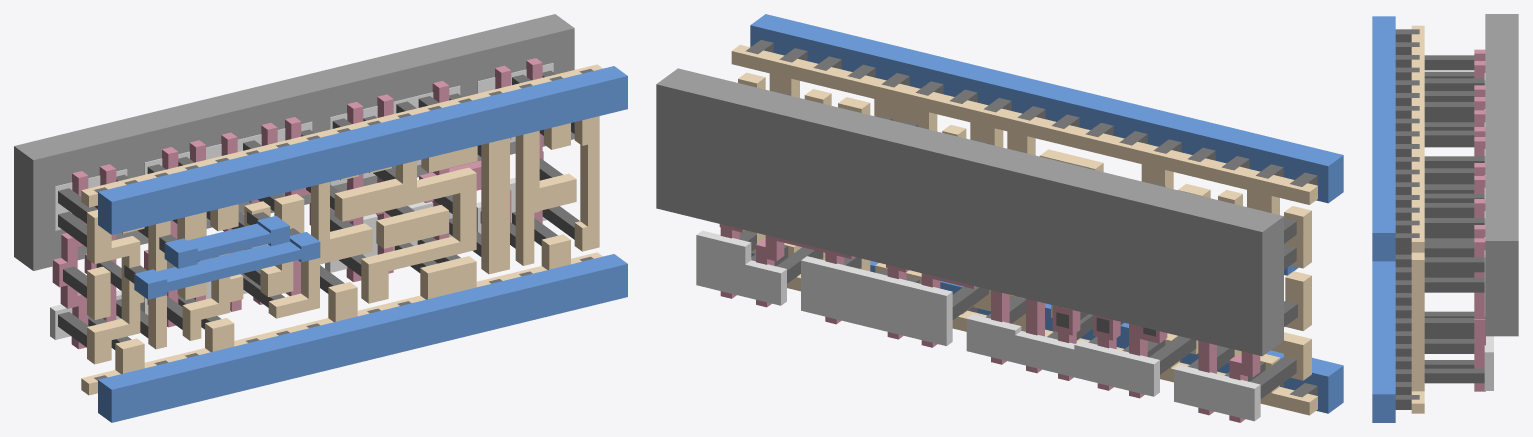
The model's file is sky130_fd_sc_hd__dlrbn_1.gds.gltf.
3 views of the same model, side by side, from view 1: azimuth 30°, elevation 25°; view 2: azimuth 150°, elevation 25°; view 3: azimuth 270°, elevation 25° (orthographic). The views are drawn at different scales.
Visible parts, largest first — view 1: sky130_fd_sc_hd__dlrbn_1_met1, sky130_fd_sc_hd__dlrbn_1_li1, sky130_fd_sc_hd__dlrbn_1_nwell, sky130_fd_sc_hd__dlrbn_1_licon, sky130_fd_sc_hd__dlrbn_1_poly, sky130_fd_sc_hd__dlrbn_1_diff, sky130_fd_sc_hd__dlrbn_1_mcon; view 2: sky130_fd_sc_hd__dlrbn_1_nwell, sky130_fd_sc_hd__dlrbn_1_li1, sky130_fd_sc_hd__dlrbn_1_diff, sky130_fd_sc_hd__dlrbn_1_met1, sky130_fd_sc_hd__dlrbn_1_poly, sky130_fd_sc_hd__dlrbn_1_licon, sky130_fd_sc_hd__dlrbn_1_mcon; view 3: sky130_fd_sc_hd__dlrbn_1_licon, sky130_fd_sc_hd__dlrbn_1_nwell, sky130_fd_sc_hd__dlrbn_1_met1, sky130_fd_sc_hd__dlrbn_1_mcon, sky130_fd_sc_hd__dlrbn_1_li1, sky130_fd_sc_hd__dlrbn_1_poly, sky130_fd_sc_hd__dlrbn_1_diff.
Part boxes in pixels (left/top/right/bottom): sky130_fd_sc_hd__dlrbn_1_met1: left=98, top=66, right=627, bottom=422; sky130_fd_sc_hd__dlrbn_1_li1: left=81, top=64, right=602, bottom=395; sky130_fd_sc_hd__dlrbn_1_nwell: left=14, top=14, right=574, bottom=270; sky130_fd_sc_hd__dlrbn_1_licon: left=58, top=70, right=579, bottom=349; sky130_fd_sc_hd__dlrbn_1_poly: left=52, top=58, right=543, bottom=349; sky130_fd_sc_hd__dlrbn_1_diff: left=50, top=63, right=553, bottom=339; sky130_fd_sc_hd__dlrbn_1_mcon: left=94, top=68, right=593, bottom=380; sky130_fd_sc_hd__dlrbn_1_nwell: left=656, top=68, right=1283, bottom=356; sky130_fd_sc_hd__dlrbn_1_li1: left=731, top=44, right=1317, bottom=415; sky130_fd_sc_hd__dlrbn_1_diff: left=696, top=230, right=1260, bottom=421; sky130_fd_sc_hd__dlrbn_1_met1: left=750, top=14, right=1343, bottom=413; sky130_fd_sc_hd__dlrbn_1_poly: left=719, top=224, right=1260, bottom=422; sky130_fd_sc_hd__dlrbn_1_licon: left=739, top=91, right=1297, bottom=398; sky130_fd_sc_hd__dlrbn_1_mcon: left=745, top=40, right=1317, bottom=397; sky130_fd_sc_hd__dlrbn_1_licon: left=1424, top=55, right=1484, bottom=383; sky130_fd_sc_hd__dlrbn_1_nwell: left=1485, top=14, right=1518, bottom=336; sky130_fd_sc_hd__dlrbn_1_met1: left=1372, top=16, right=1395, bottom=422; sky130_fd_sc_hd__dlrbn_1_mcon: left=1395, top=29, right=1419, bottom=409; sky130_fd_sc_hd__dlrbn_1_li1: left=1411, top=25, right=1424, bottom=413; sky130_fd_sc_hd__dlrbn_1_poly: left=1474, top=49, right=1485, bottom=391; sky130_fd_sc_hd__dlrbn_1_diff: left=1484, top=73, right=1493, bottom=390.
Size of the model in its own units: 8.2 by 3.2 by 2.24.
